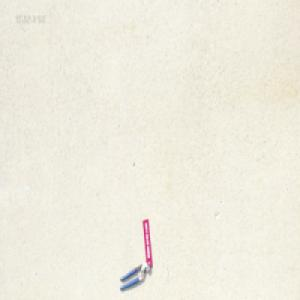Label: (142, 219, 152, 268)
Pliers: (118, 260, 150, 290)
